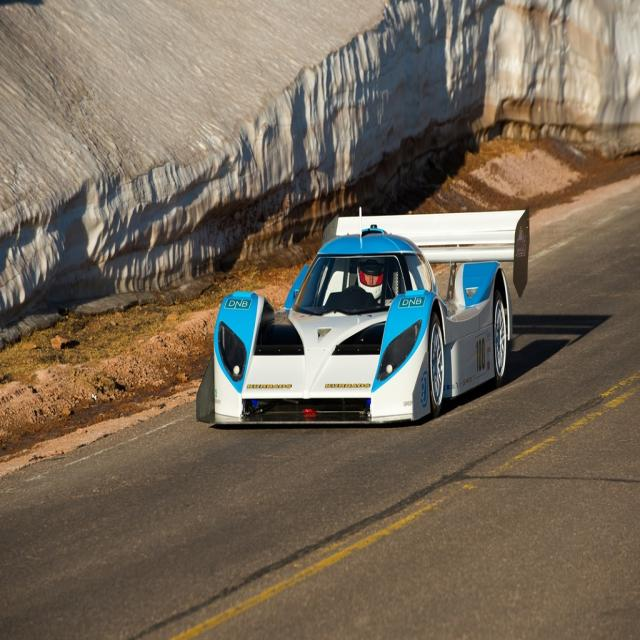other: (194, 200, 528, 430)
